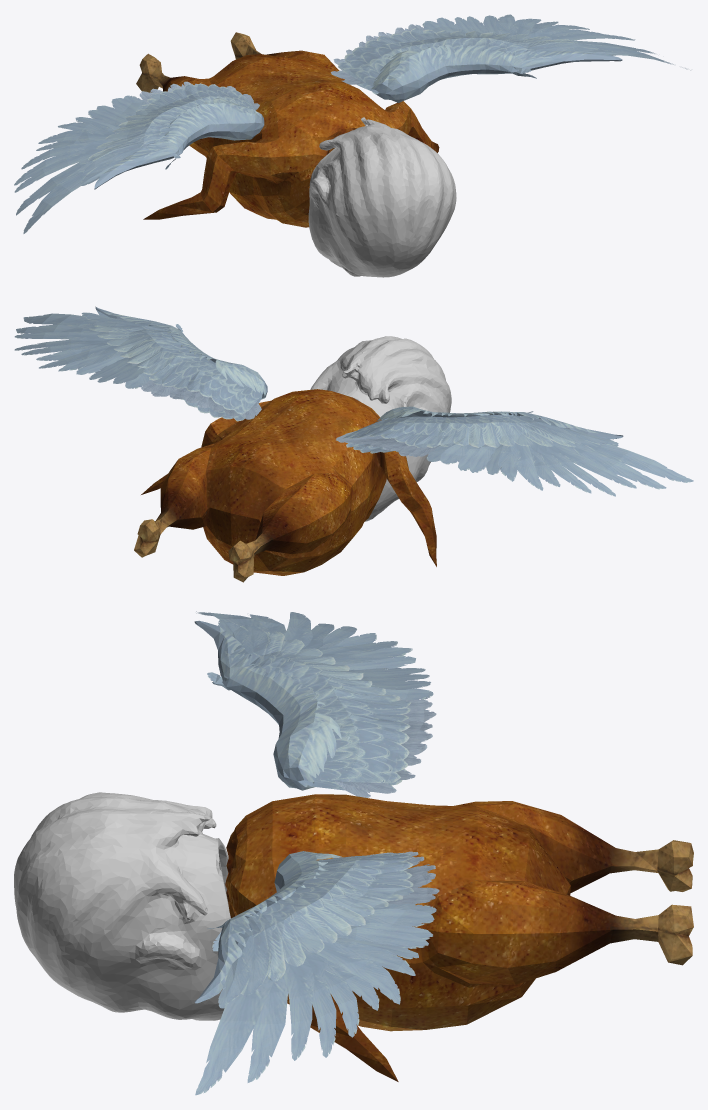
The model's file is lepoulet.obj.
The picture shows the model from 3 angles, top to bottom: view 1: azimuth 30°, elevation 25°; view 2: azimuth 150°, elevation 25°; view 3: azimuth 270°, elevation 25°; orthographic projection. The views are drawn at different scales.
Visible parts, largest first — view 1: Object.4, Object.1, Object.2, Object.3; view 2: Object.4, Object.2, Object.3, Object.1; view 3: Object.4, Object.1, Object.3, Object.2.
Boxes of the visible parts, left/top/right/bottom form: Object.4: left=136, top=32, right=439, bottom=227; Object.1: left=308, top=117, right=456, bottom=277; Object.2: left=14, top=81, right=264, bottom=233; Object.3: left=331, top=14, right=690, bottom=102; Object.4: left=134, top=389, right=436, bottom=582; Object.2: left=336, top=406, right=693, bottom=496; Object.3: left=14, top=306, right=267, bottom=421; Object.1: left=310, top=336, right=451, bottom=521; Object.4: left=225, top=794, right=693, bottom=1081; Object.1: left=14, top=792, right=230, bottom=1020; Object.3: left=194, top=851, right=439, bottom=1095; Object.2: left=194, top=611, right=436, bottom=797.
Size of the model in its own units: 148 by 34.1 by 87.96.
